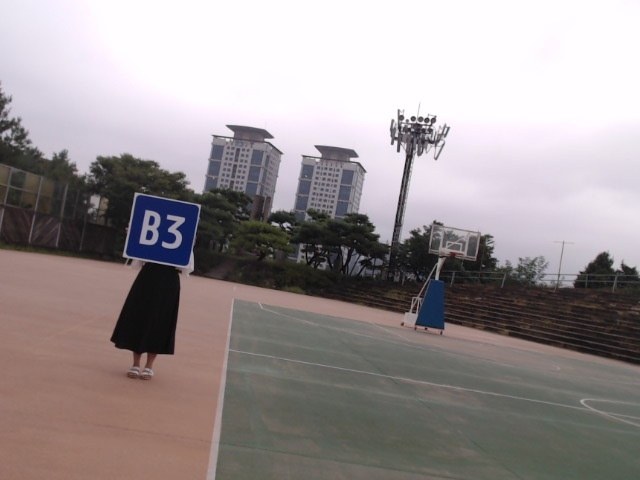delivery_b3: (123, 193, 199, 268)
